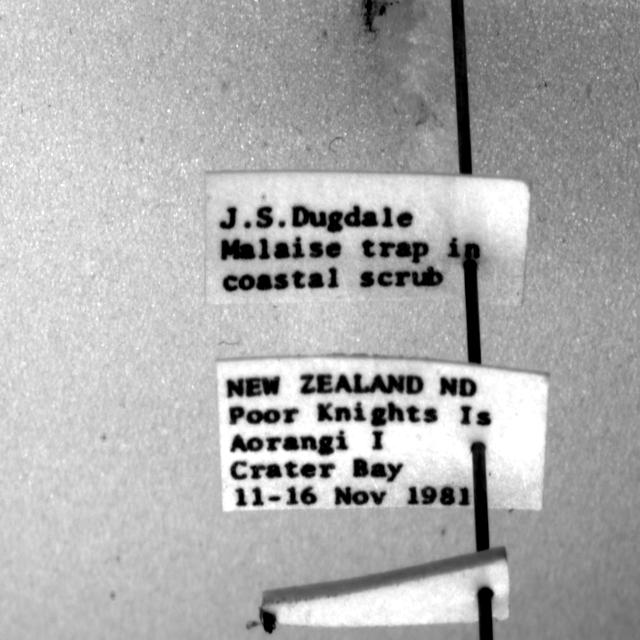typed_label: (218, 356, 549, 512), (206, 171, 530, 304)
